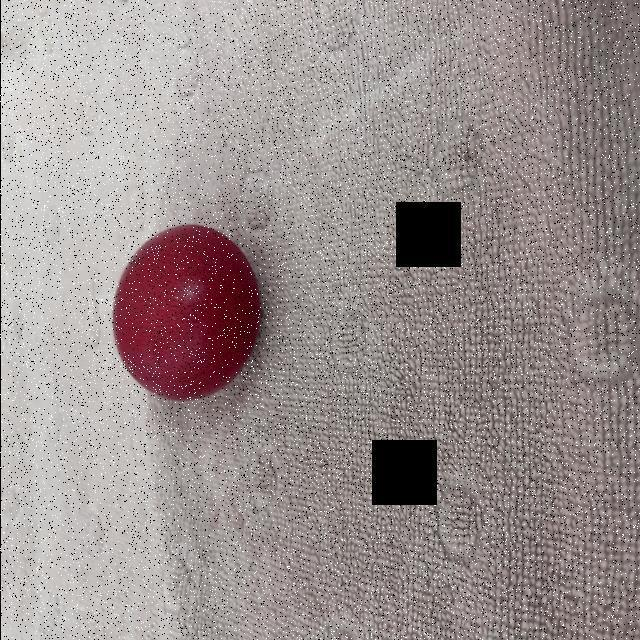egg: (105, 225, 261, 406)
